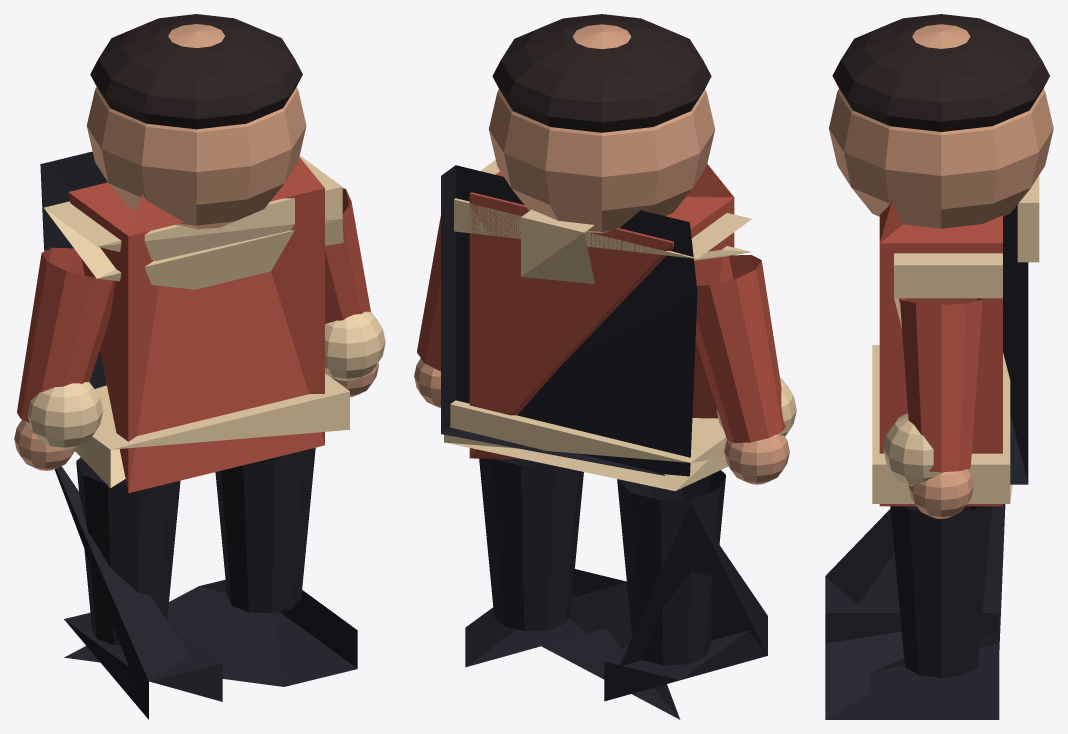
The model's file is Monk_Female.obj.
The picture shows the model from 3 angles, left to right: view 1: azimuth 30°, elevation 25°; view 2: azimuth 150°, elevation 25°; view 3: azimuth 270°, elevation 25°; orthographic projection. The views are drawn at different scales.
Visible parts, largest first — view 1: Monk_Female; view 2: Monk_Female; view 3: Monk_Female.
Boxes of the visible parts, box(x1,y1,x2,y2) form: Monk_Female: box(14, 14, 385, 719); Monk_Female: box(414, 14, 796, 719); Monk_Female: box(825, 14, 1053, 719).
Size of the model in its own units: 1.16 by 1.93 by 0.63.
